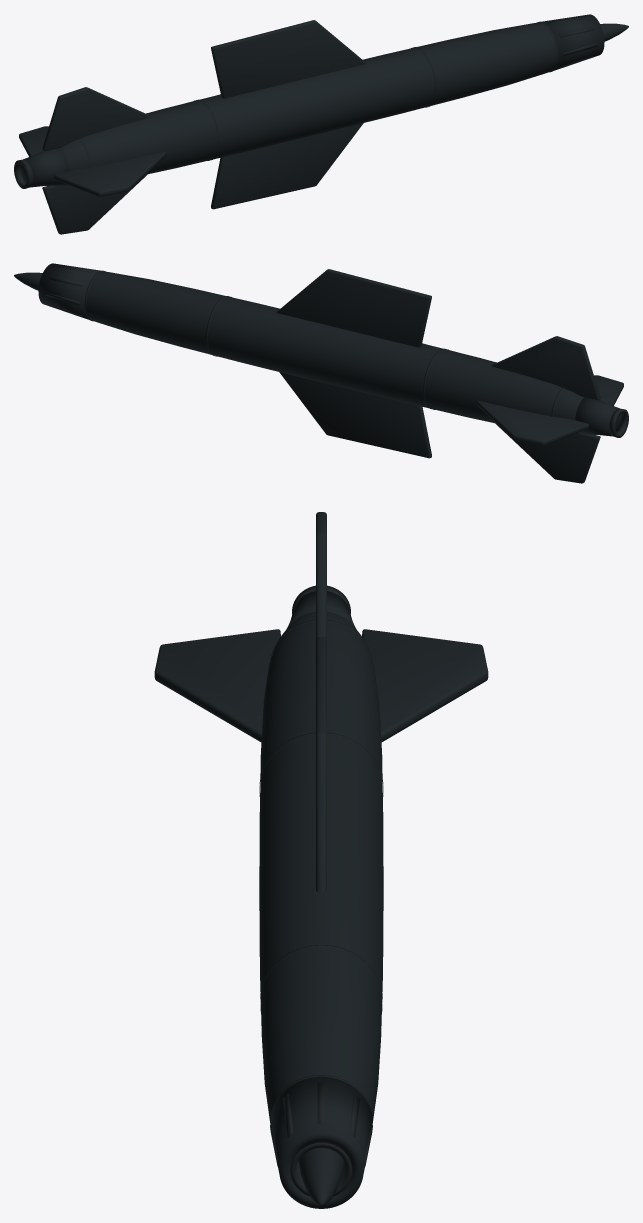
The model's file is P700_Granit.glb.
3 renders of one model, top to bottom at view 1: azimuth 30°, elevation 25°; view 2: azimuth 150°, elevation 25°; view 3: azimuth 270°, elevation 25°, orthographic. The views are drawn at different scales.
Parts seen in each view (by area): view 1: SM_P700_LOD0_Static, SM_P700_LOD0_Wing_L, SM_P700_LOD0_Wing_R, SM_P700_LOD0_Tail_Horizontal_L, SM_P700_LOD0_Tail_Horizontal_R, SM_P700_LOD0_Tail_Down, SM_P700_LOD0_Tail_Up; view 2: SM_P700_LOD0_Static, SM_P700_LOD0_Wing_L, SM_P700_LOD0_Wing_R, SM_P700_LOD0_Tail_Horizontal_L, SM_P700_LOD0_Tail_Horizontal_R, SM_P700_LOD0_Tail_Up, SM_P700_LOD0_Tail_Down; view 3: SM_P700_LOD0_Static, SM_P700_LOD0_Tail_Down, SM_P700_LOD0_Tail_Up, SM_P700_LOD0_Wing_L, SM_P700_LOD0_Tail_Horizontal_L.
Part boxes in pixels (box(x1,y1,x2,y2)): SM_P700_LOD0_Static: box(14, 14, 628, 188); SM_P700_LOD0_Wing_L: box(211, 20, 366, 98); SM_P700_LOD0_Wing_R: box(211, 123, 363, 209); SM_P700_LOD0_Tail_Horizontal_L: box(42, 87, 151, 151); SM_P700_LOD0_Tail_Horizontal_R: box(42, 174, 147, 234); SM_P700_LOD0_Tail_Down: box(53, 151, 166, 196); SM_P700_LOD0_Tail_Up: box(19, 126, 48, 156); SM_P700_LOD0_Static: box(14, 263, 628, 437); SM_P700_LOD0_Wing_L: box(276, 269, 431, 347); SM_P700_LOD0_Wing_R: box(279, 372, 431, 458); SM_P700_LOD0_Tail_Horizontal_L: box(491, 336, 600, 400); SM_P700_LOD0_Tail_Horizontal_R: box(495, 423, 600, 483); SM_P700_LOD0_Tail_Up: box(476, 400, 589, 445); SM_P700_LOD0_Tail_Down: box(594, 375, 623, 405); SM_P700_LOD0_Static: box(259, 585, 383, 1208); SM_P700_LOD0_Tail_Down: box(154, 629, 280, 741); SM_P700_LOD0_Tail_Up: box(362, 629, 488, 741); SM_P700_LOD0_Wing_L: box(316, 637, 326, 892); SM_P700_LOD0_Tail_Horizontal_L: box(316, 512, 326, 639).
Size of the model in its own units: 9.98 by 2.6 by 2.38.
Materials: 2 (1 with a texture image).
